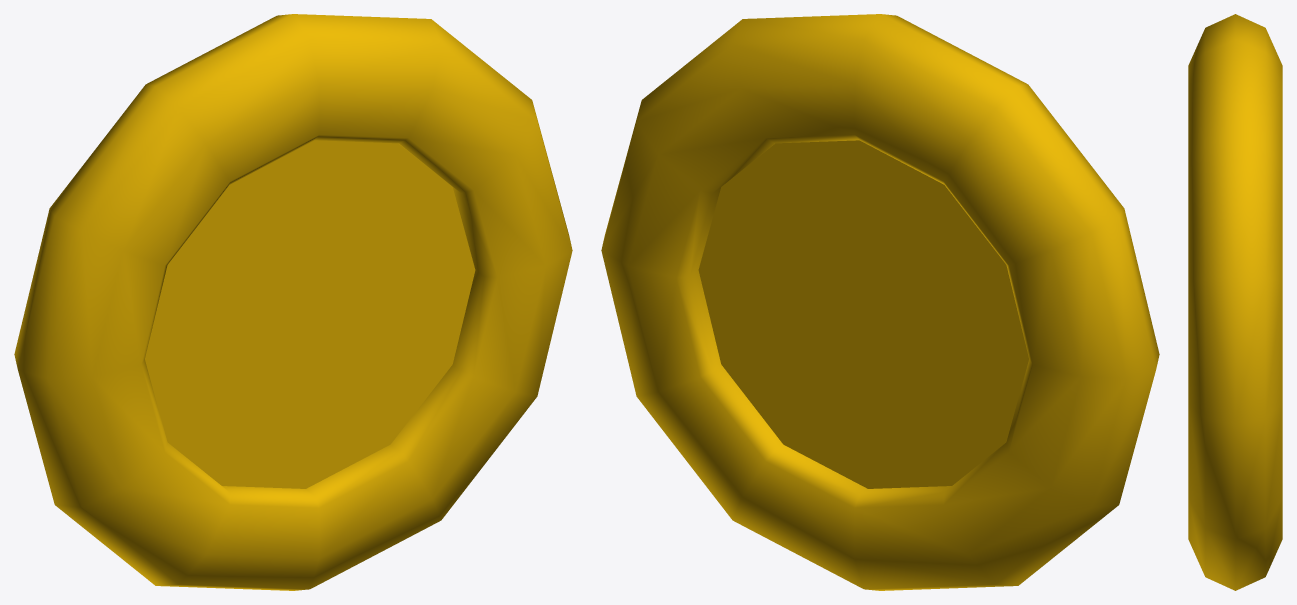
The model's file is coinmesh.glb.
The picture shows the model from 3 angles, left to right: view 1: azimuth 30°, elevation 25°; view 2: azimuth 150°, elevation 25°; view 3: azimuth 270°, elevation 25°; orthographic projection. The views are drawn at different scales.
Parts seen in each view (by area): view 1: Torus.007; view 2: Torus.007; view 3: Torus.007.
Boxes of the visible parts, x1,y1,x2,y2 form: Torus.007: [14, 14, 572, 590]; Torus.007: [601, 14, 1159, 590]; Torus.007: [1188, 14, 1282, 590].
Bounding box in the file's own units: 1.03 × 1.03 × 0.1676.
